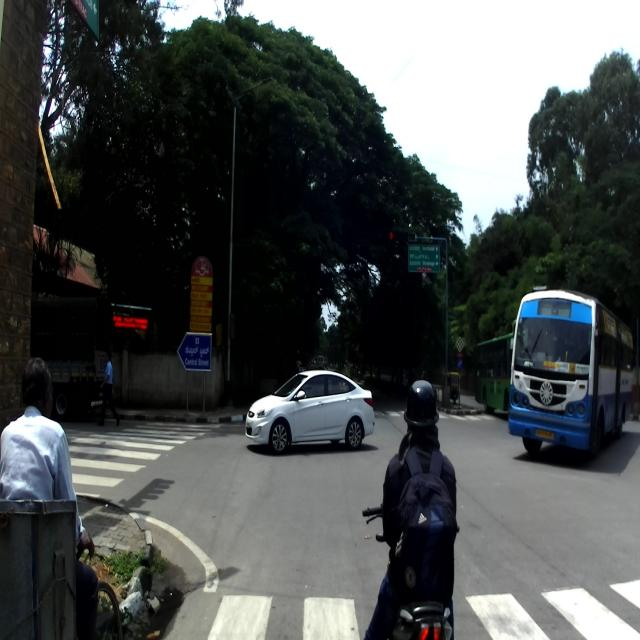bus: (507, 285, 634, 459)
car: (244, 370, 378, 455)
motorcycle: (362, 501, 460, 639)
